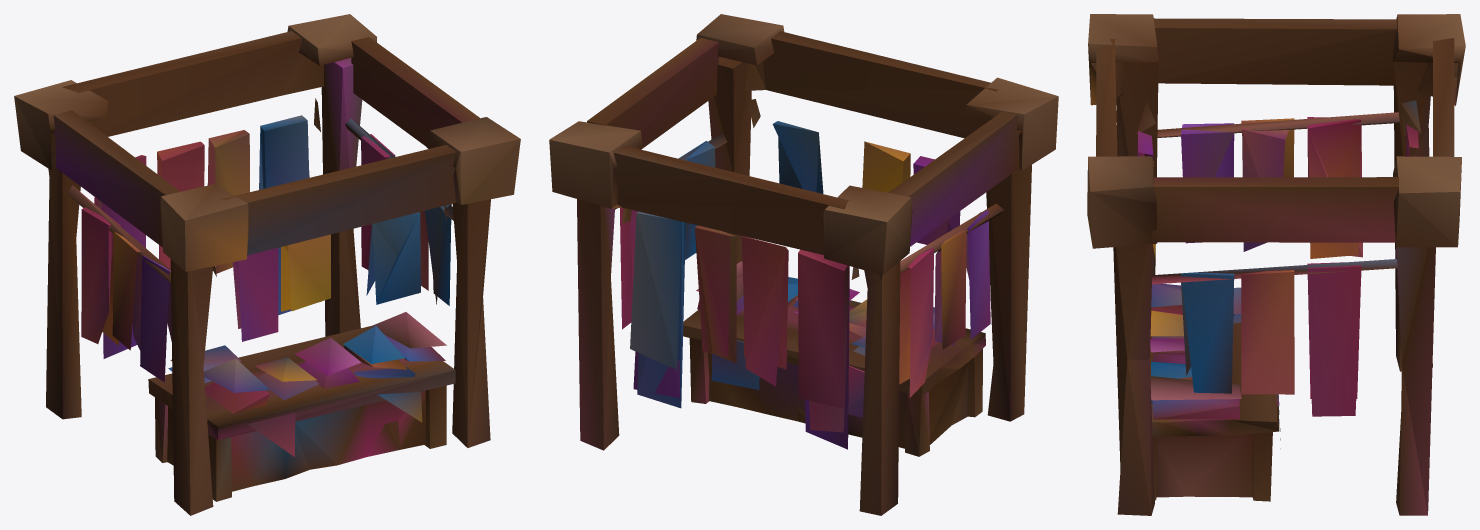
Rendered from atlasst_lo.glb.
3 renders of one model, left to right at view 1: azimuth 30°, elevation 25°; view 2: azimuth 150°, elevation 25°; view 3: azimuth 270°, elevation 25°, orthographic. The views are drawn at different scales.
Visible parts, largest first — view 1: geometry_0; view 2: geometry_0; view 3: geometry_0.
Part boxes in pixels (box(x1,y1,x2,y2)): geometry_0: box(14, 14, 520, 515); geometry_0: box(549, 14, 1058, 515); geometry_0: box(1087, 14, 1465, 515).
Size of the model in its own units: 0.9482 by 0.8487 by 0.8536.
